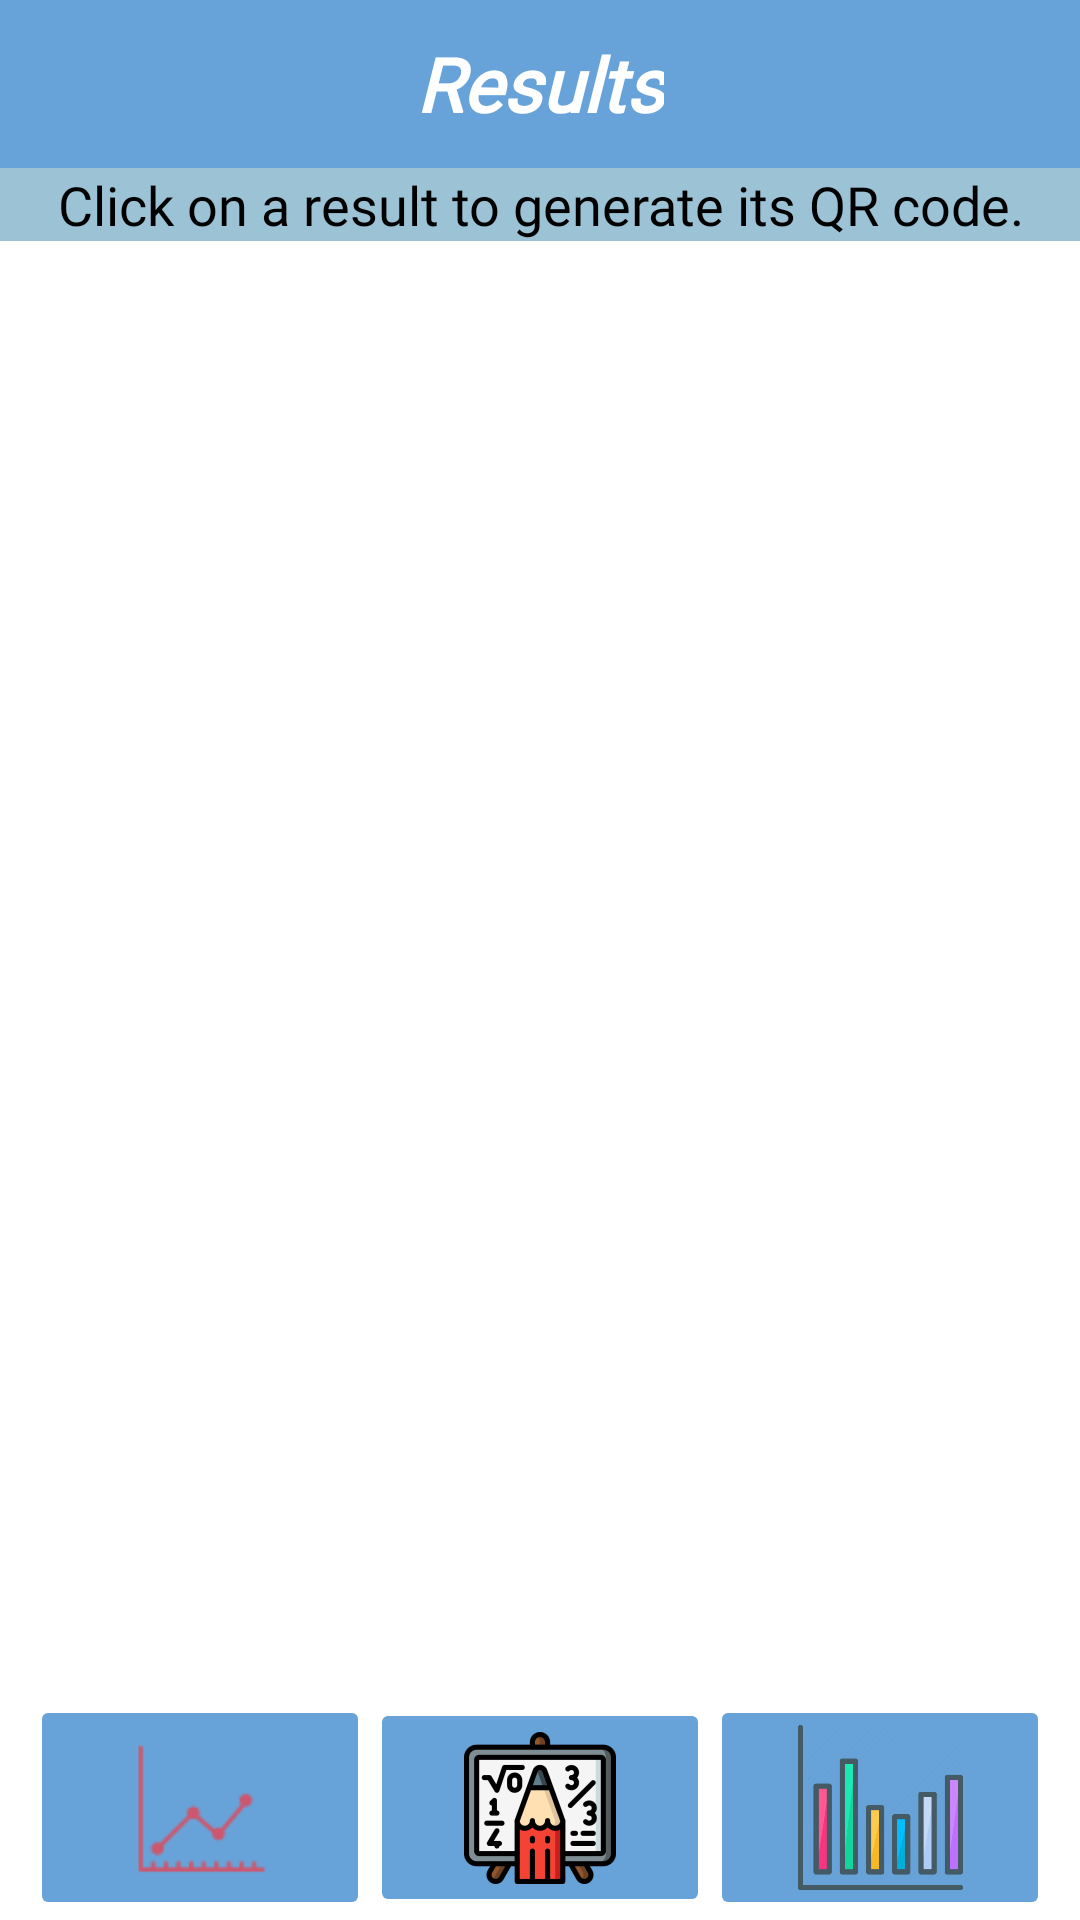

Icon click points for this 1080w x 1920h phone screenshot, format (x=x, y=y):
histogram: (x=880, y=1807)
line chart: (x=200, y=1807)
